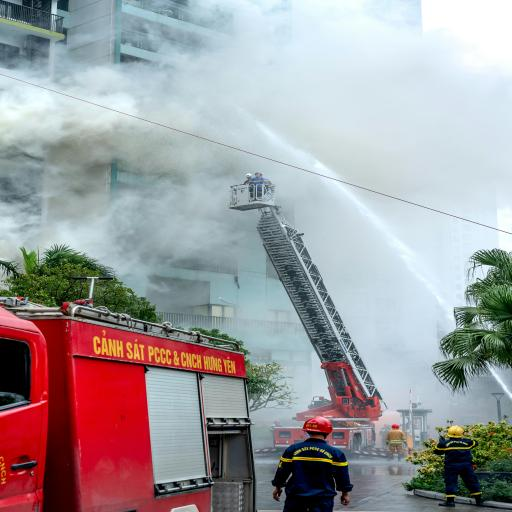smoke: (0, 0, 512, 422)
